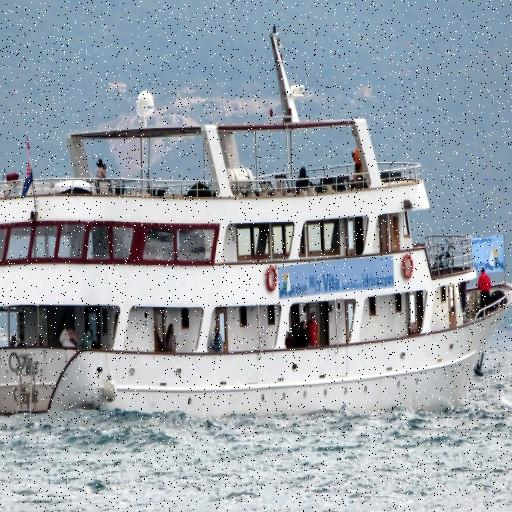cruises: (1, 23, 512, 432)
